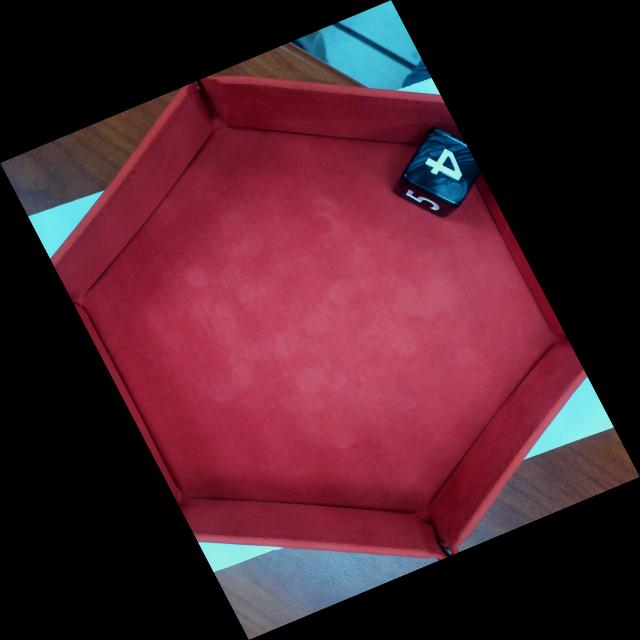dice: (407, 128, 479, 205)
